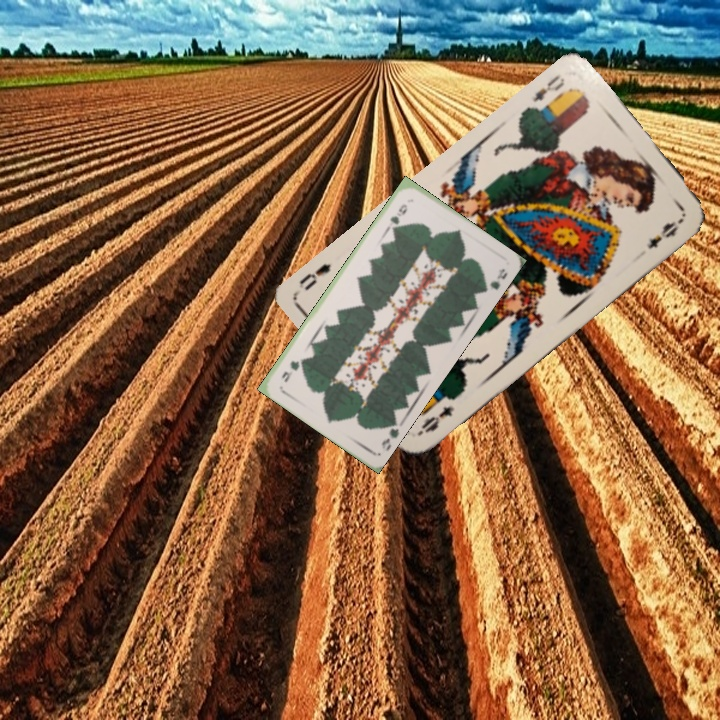EO: (413, 402, 458, 439), (529, 70, 567, 105)
G9: (377, 417, 402, 453), (386, 200, 410, 227)
